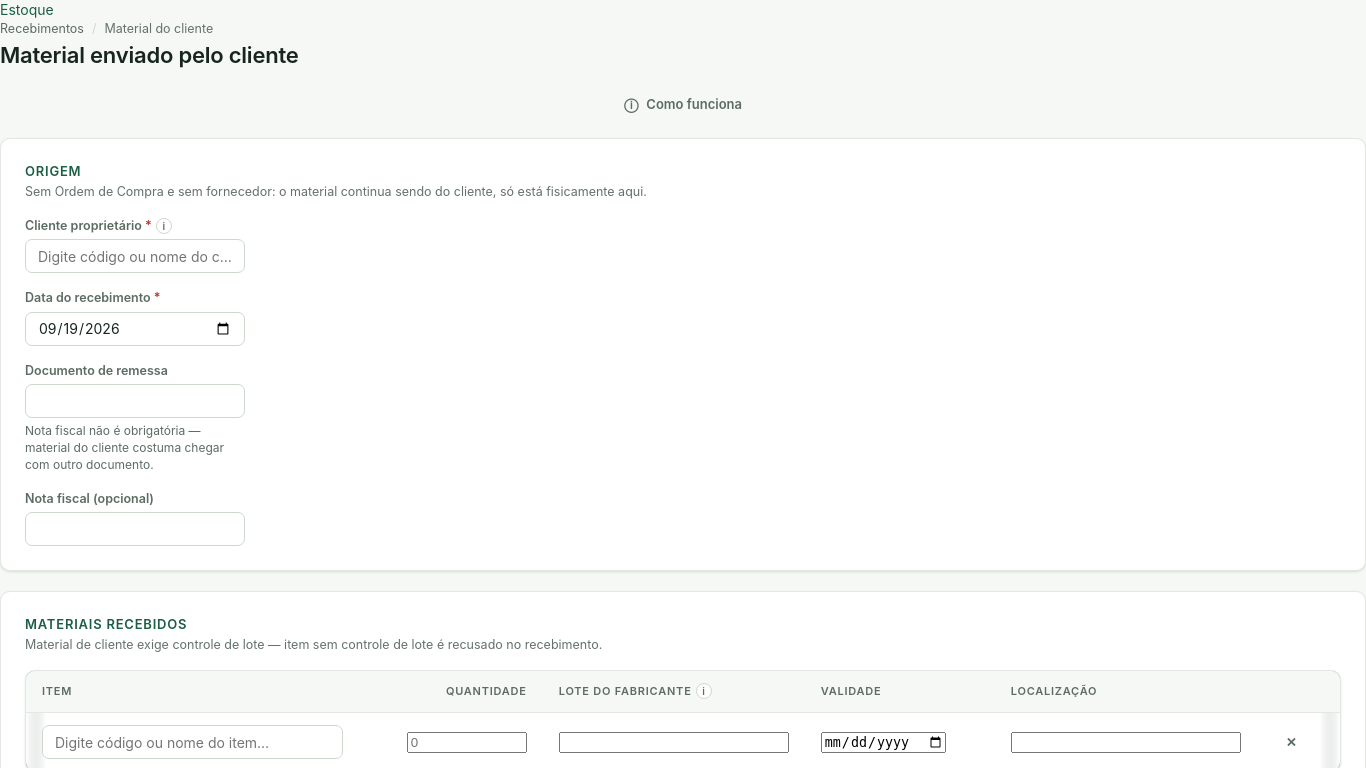
Test: Material do cliente — guarda de alterações não salvas › linha preenchida pergunta, e Continuar mantém o que foi digitado
The image size is (1366, 768).
Expected: the heading "Material enviado pelo cliente" is shown, left=0, top=42, right=298, bottom=70
Focus the dropdown named "Item recebido": (193, 742) left=42, top=725, right=343, bottom=759
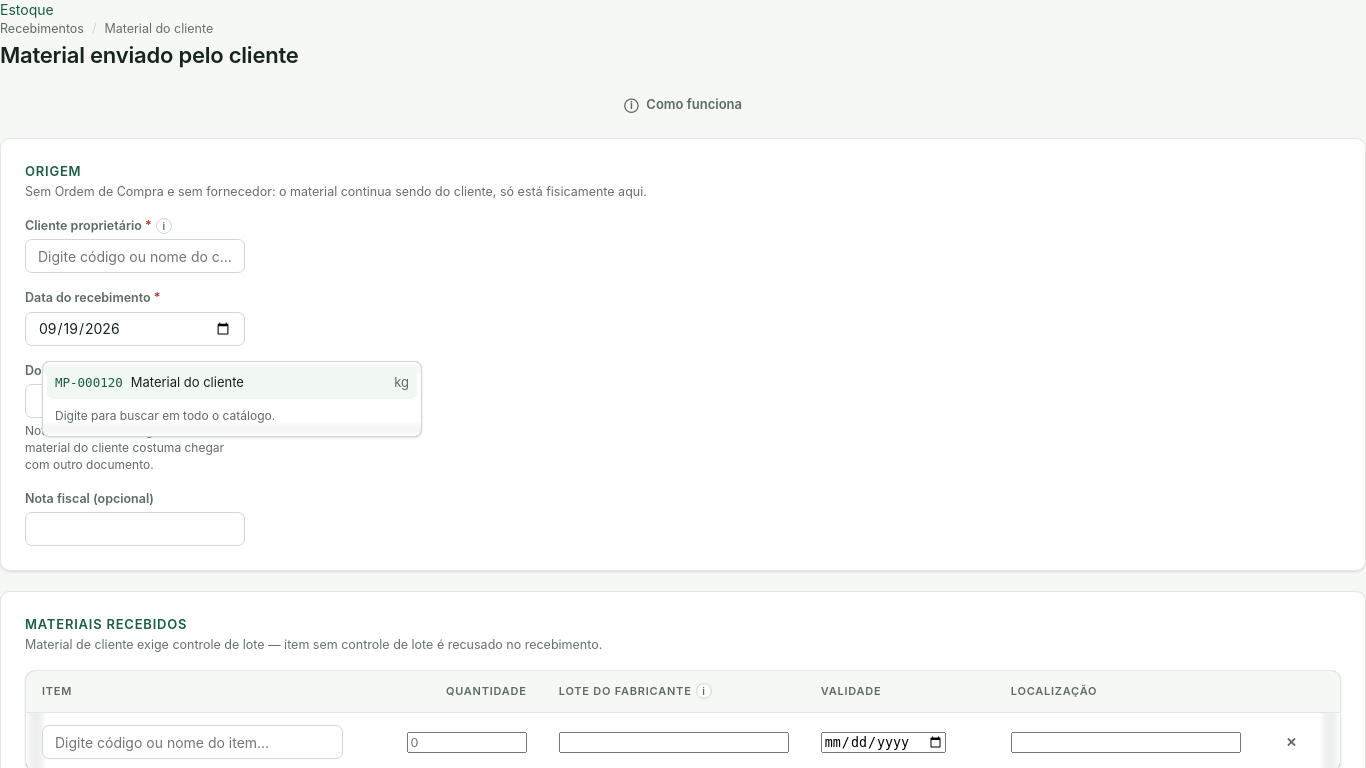
Press the mouse on the option "MP-000120 Material do cliente kg": (232, 383) left=47, top=366, right=417, bottom=399
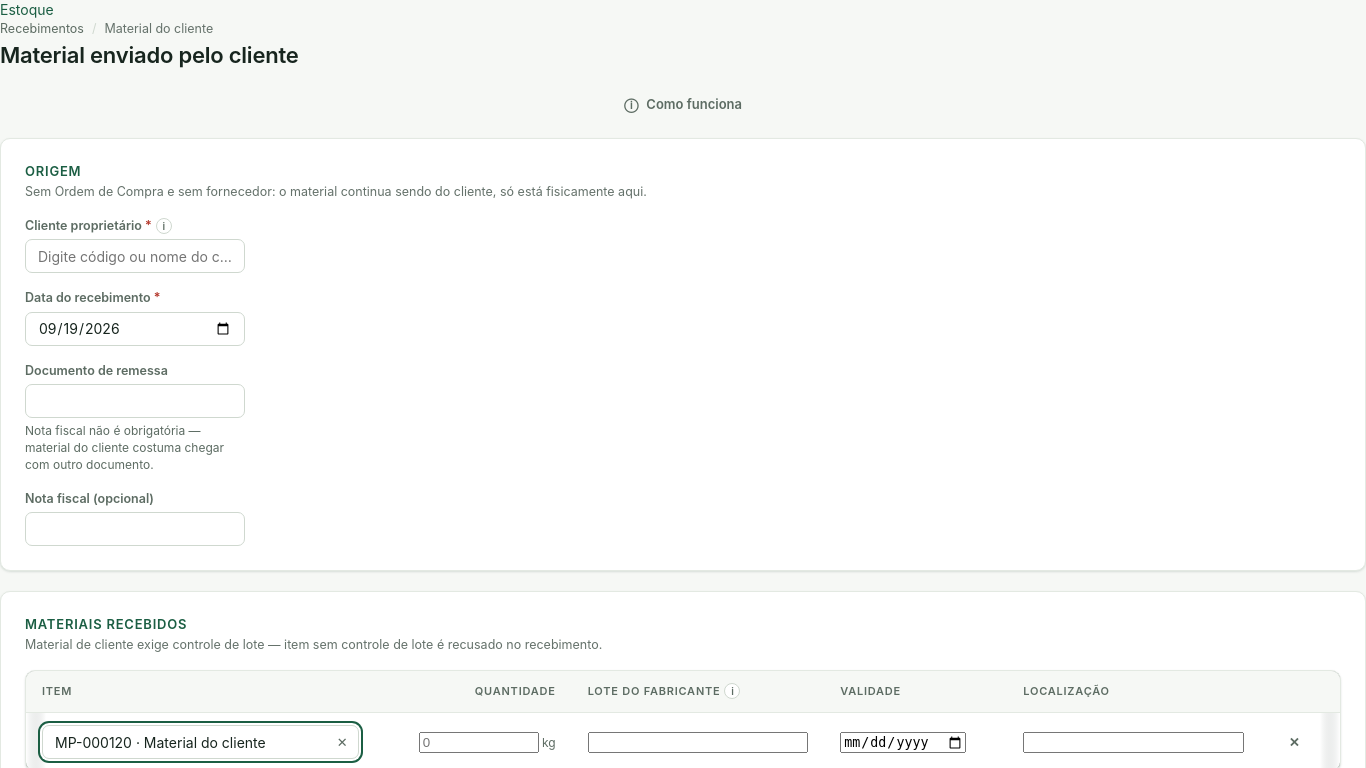
Expected: the dropdown named "Item recebido" holds "MP-000120 · Material do cliente", left=42, top=725, right=359, bottom=759
In the field named "Lote do fabricante": (698, 742) left=588, top=732, right=808, bottom=753, type "LT-2026-09"
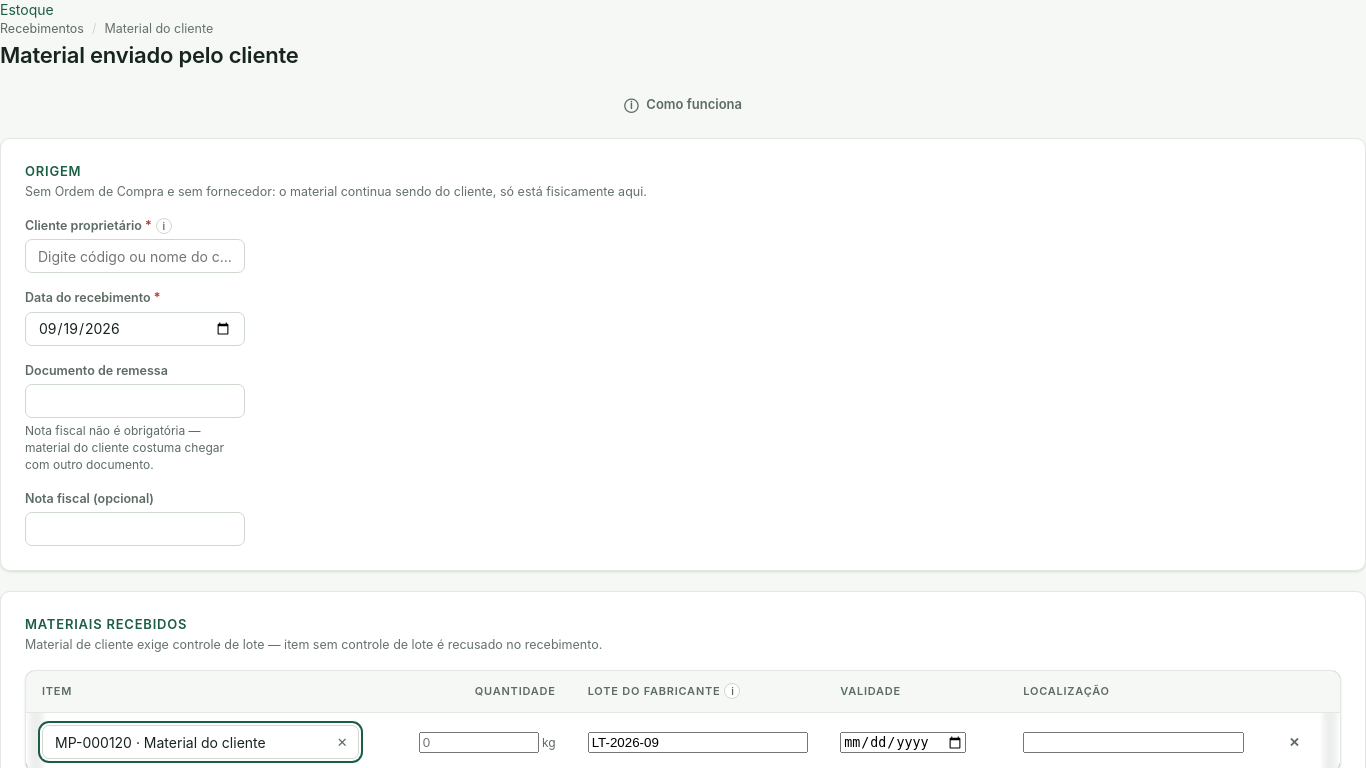
Click the link "Estoque": (27, 10) left=0, top=1, right=54, bottom=18
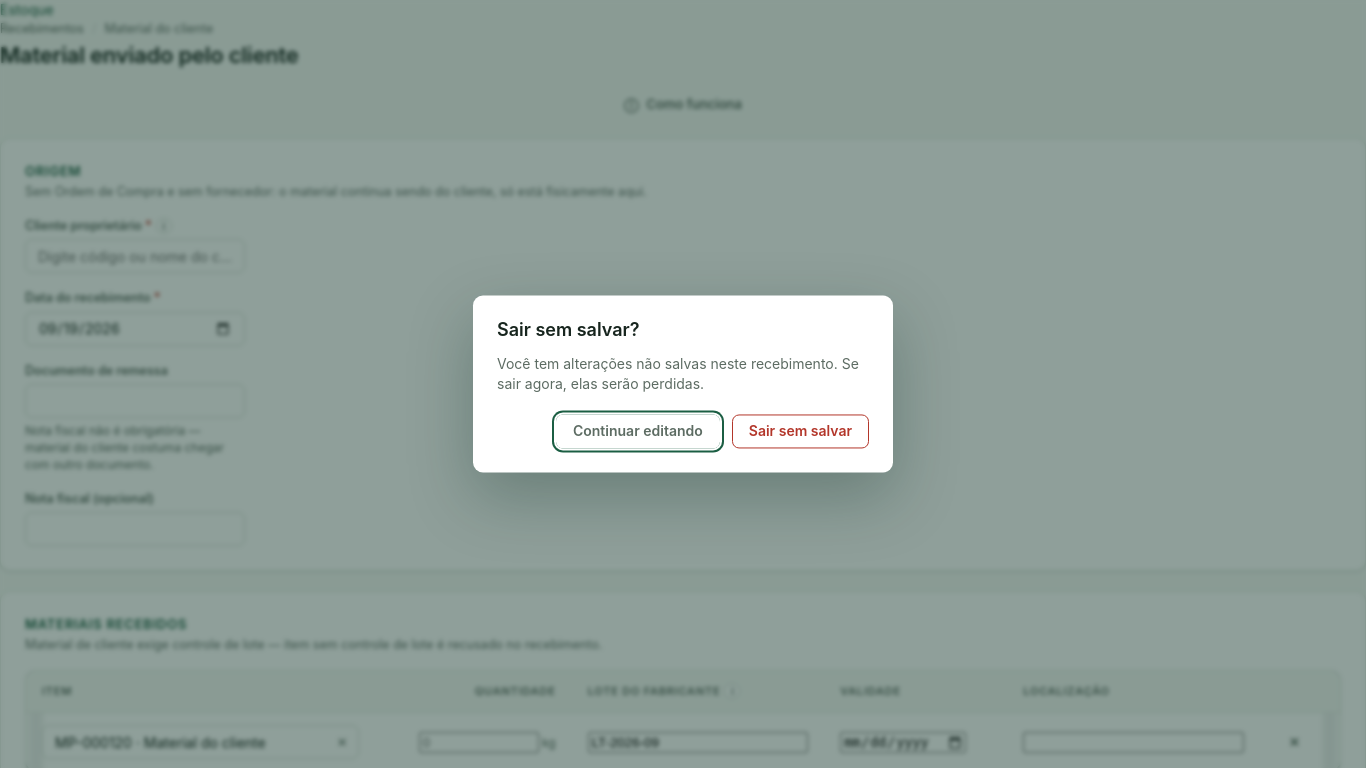
Expected: the heading "Sair sem salvar?" is shown, left=497, top=320, right=640, bottom=340
Click the button "Continuar editando": (638, 432) left=556, top=414, right=720, bottom=448
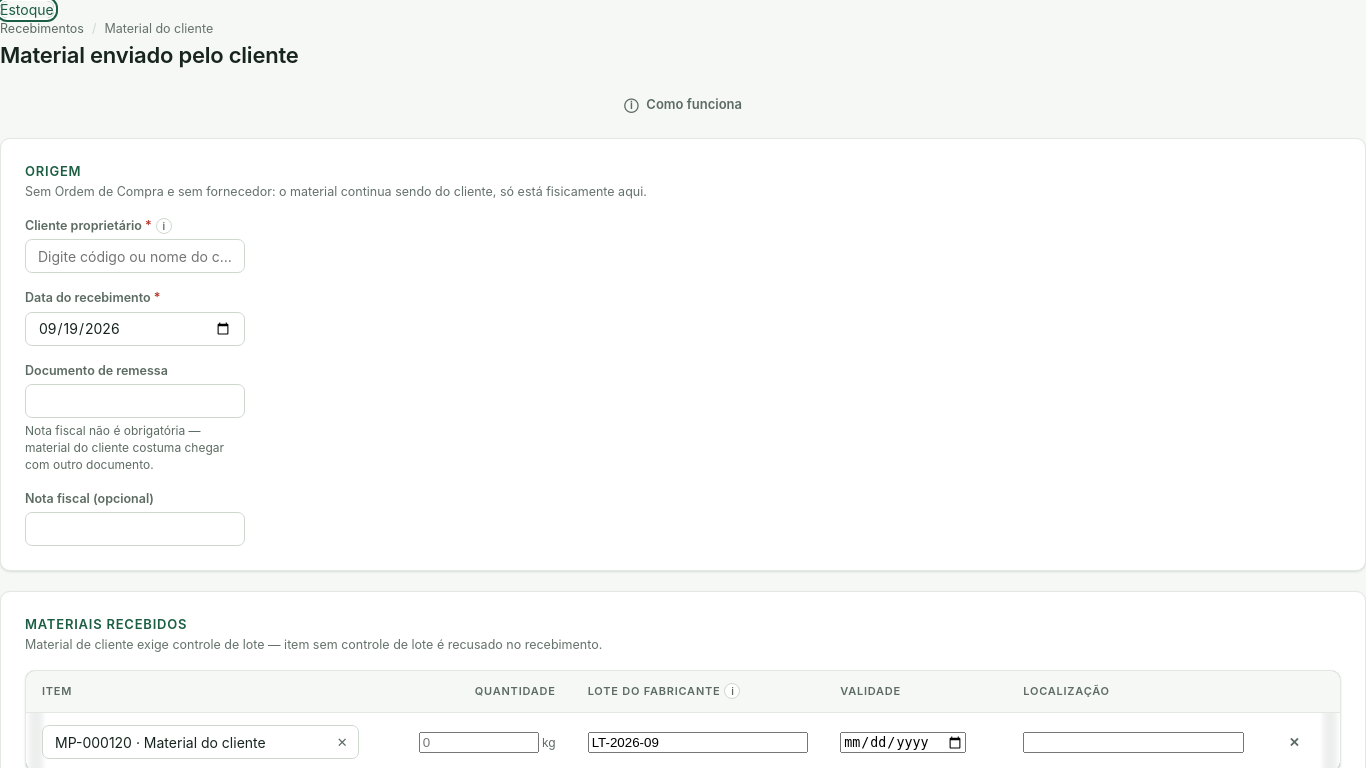
Expected: the dialog is gone
